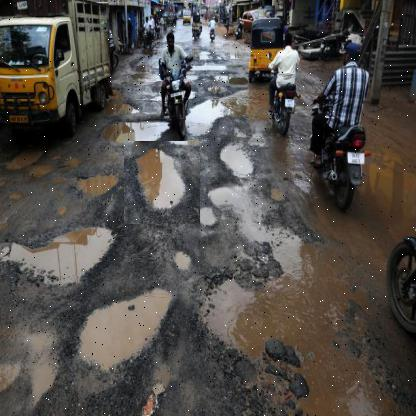pothole_water: (58, 257, 180, 375), (4, 211, 120, 298), (123, 141, 200, 225), (212, 131, 258, 184)
